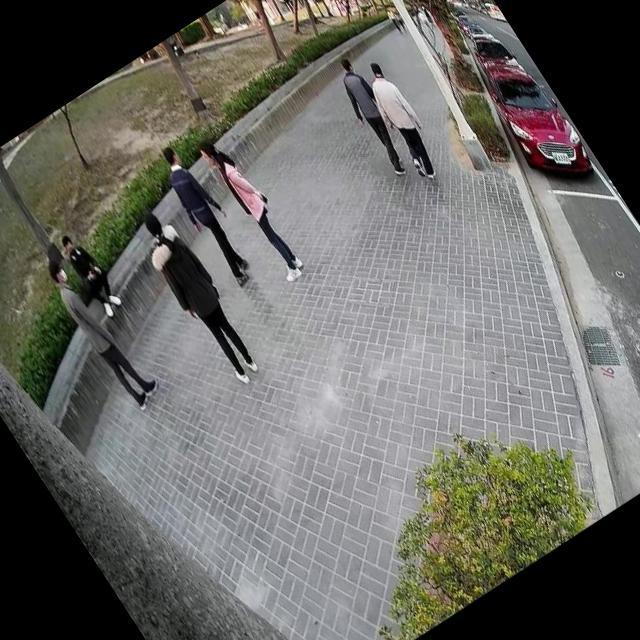person: (121, 196, 274, 397), (34, 240, 168, 420), (142, 132, 268, 296), (190, 123, 314, 287), (347, 48, 454, 186), (320, 48, 423, 182), (48, 223, 128, 323)
